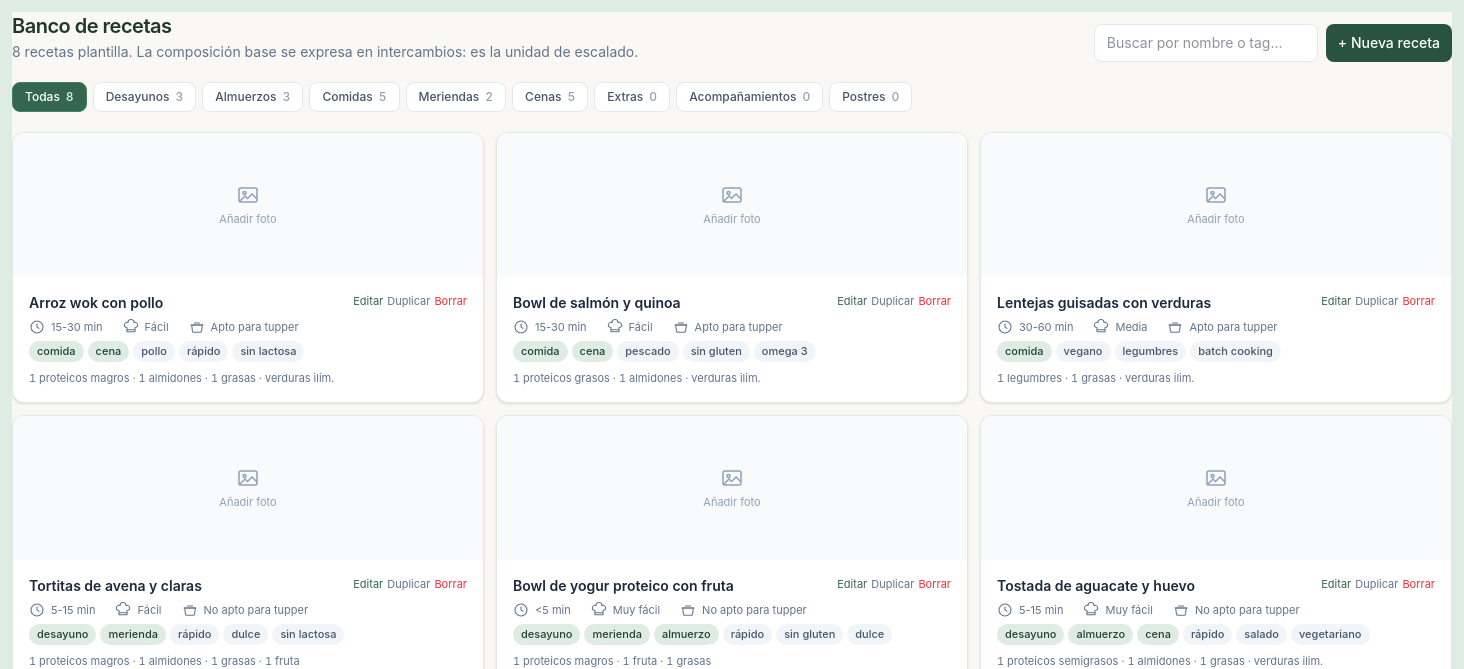
Test: Editar una receta sube al formulario › crear una nueva también sube
The width and height of the screenshot is (1464, 669).
Step 1. Click the button "+ Nueva receta" → point(1389, 43), box x1=1326 y1=24 x2=1452 y2=62
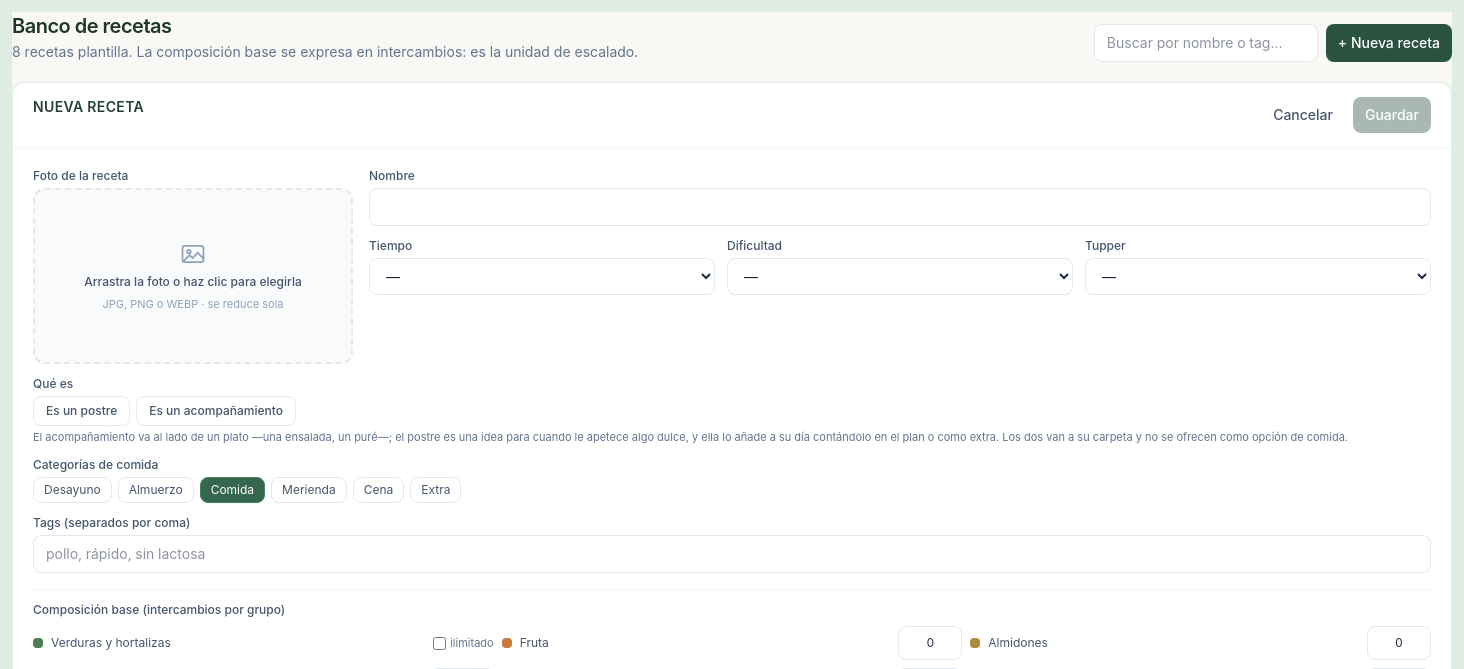
Now the heading "Nueva receta" is shown, box x1=33 y1=97 x2=144 y2=117
